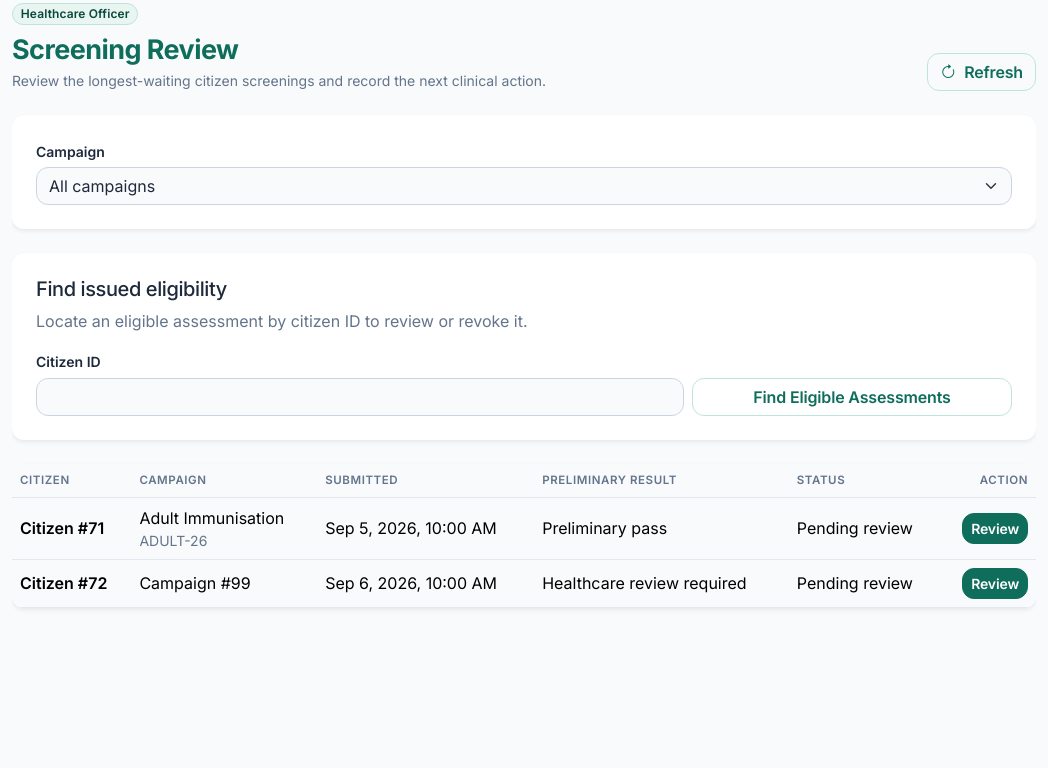
Test: HealthcareOfficerScreeningReviewQueuePage › keeps eligible assessments and citizen IDs accessible when name enrichment fails
The width and height of the screenshot is (1048, 768).
Check: the text "Citizen #71" is shown, box x1=12 y1=498 x2=131 y2=560
Type "71" into the field labelled "Citizen ID" at (360, 397), box x1=36 y1=378 x2=684 y2=416
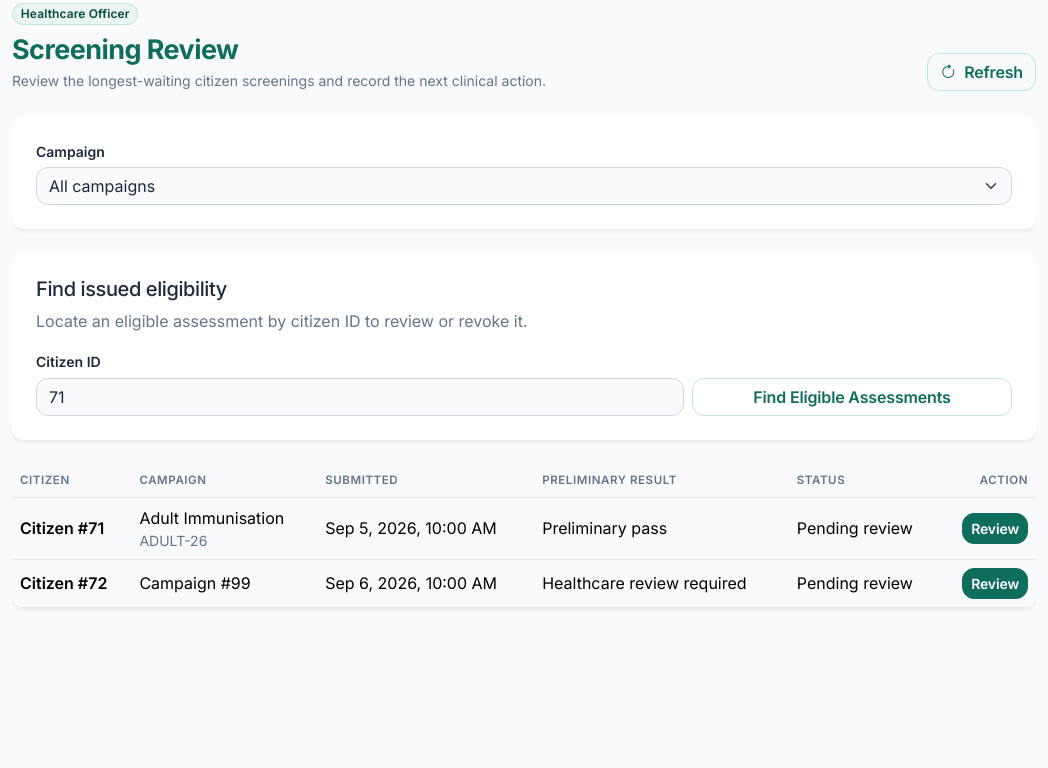
Click the button "Find Eligible Assessments" at (852, 397), box x1=692 y1=378 x2=1012 y2=416
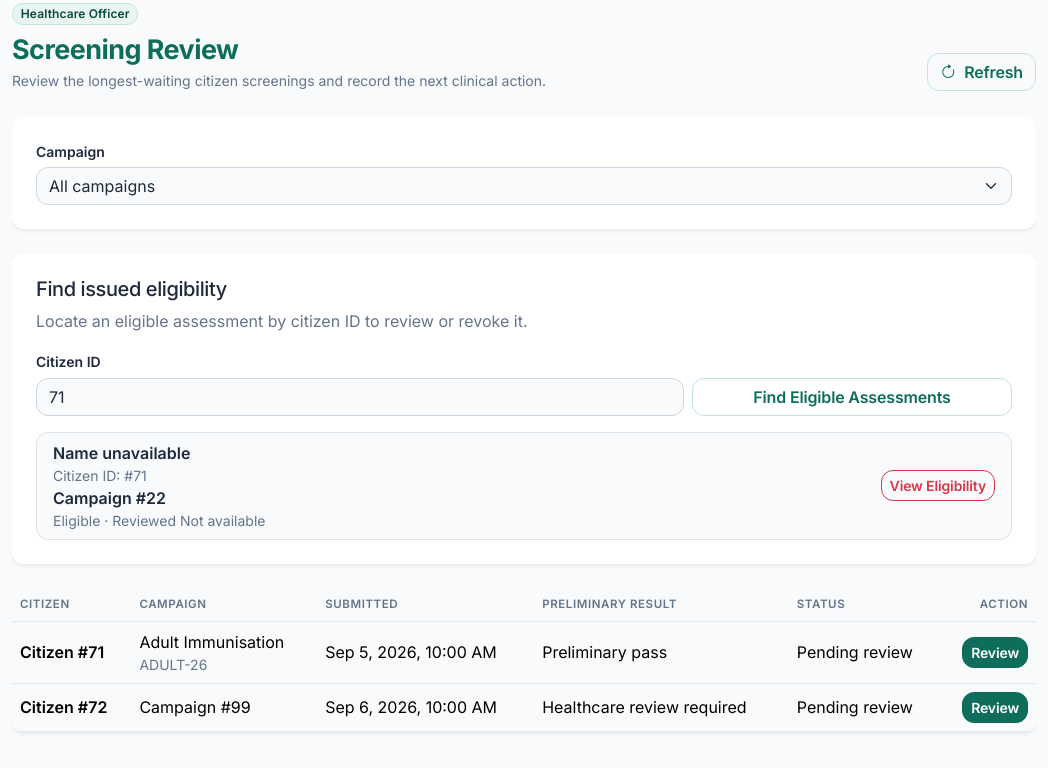
Check: the text "Name unavailable" is shown, box x1=53 y1=443 x2=190 y2=463
Check: the text "Citizen ID: #71" is shown, box x1=53 y1=467 x2=147 y2=484
